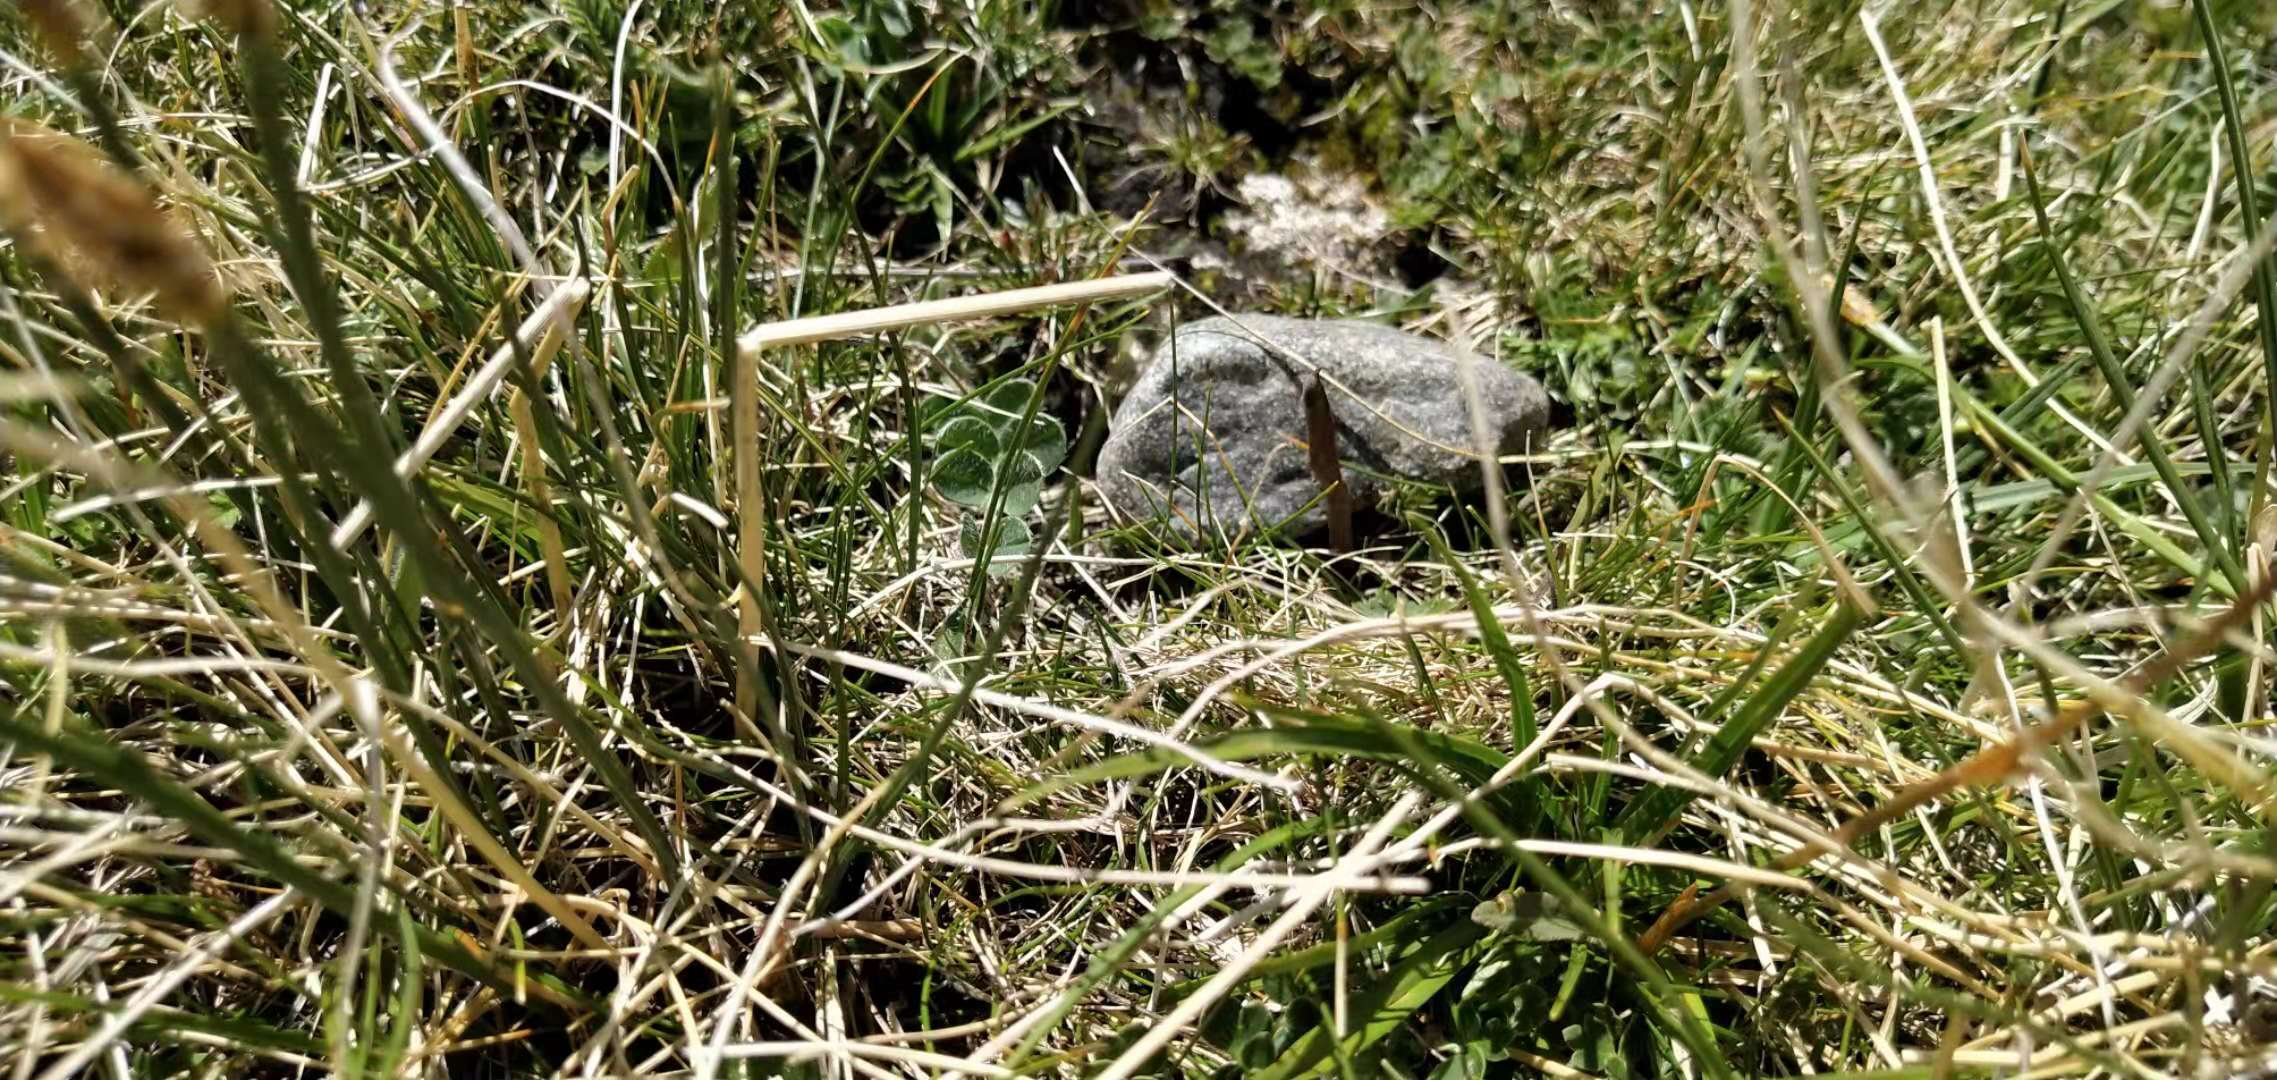w: (1303, 367, 1355, 557)
